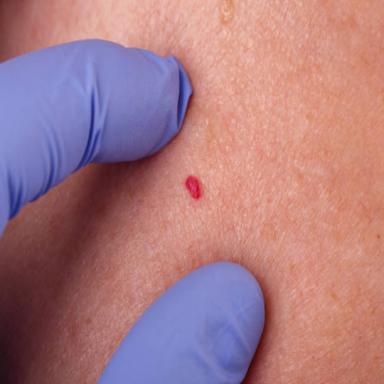Hemangiome: (185, 175, 202, 199)
